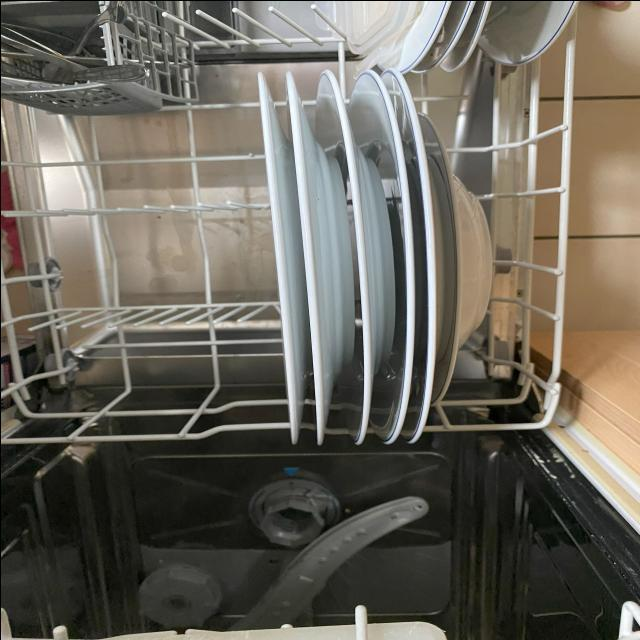empty_slot: (14, 116, 271, 422)
